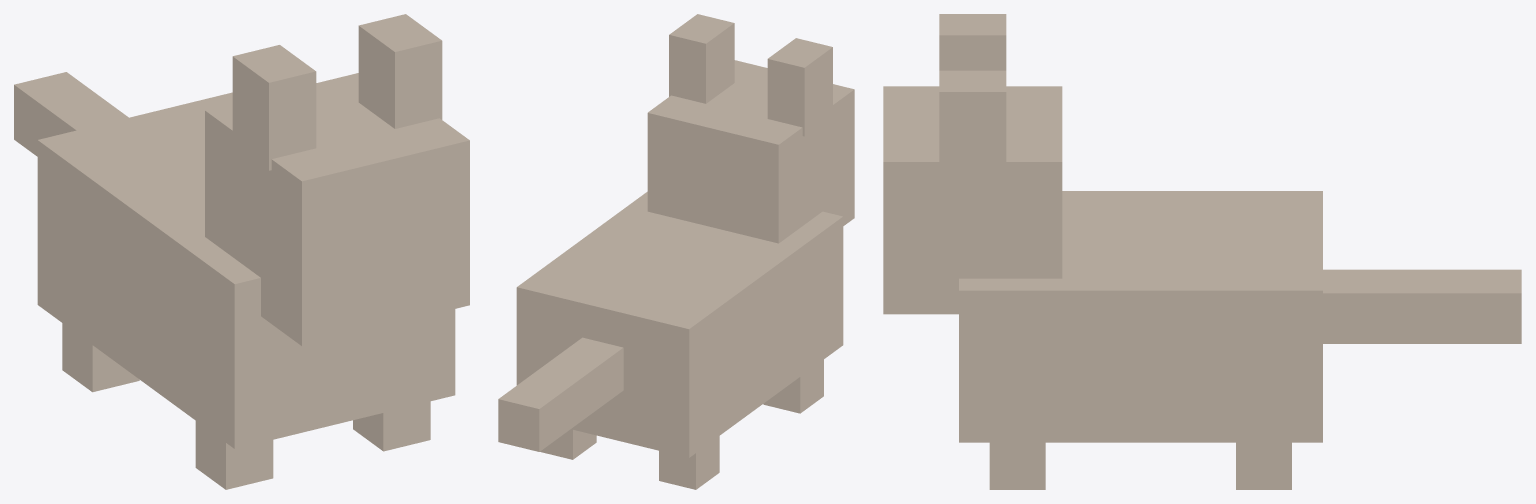
3 renders of one model, left to right at view 1: azimuth 30°, elevation 25°; view 2: azimuth 150°, elevation 25°; view 3: azimuth 270°, elevation 25°, orthographic. The views are drawn at different scales.
Visible parts, largest first — view 1: placeholder_cat; view 2: placeholder_cat; view 3: placeholder_cat.
Boxes of the visible parts, <box> form: placeholder_cat: <box>14,14,469,489</box>; placeholder_cat: <box>498,14,854,489</box>; placeholder_cat: <box>883,14,1521,489</box>.
Size of the model in its own units: 0.42 by 0.77 by 1.14.
